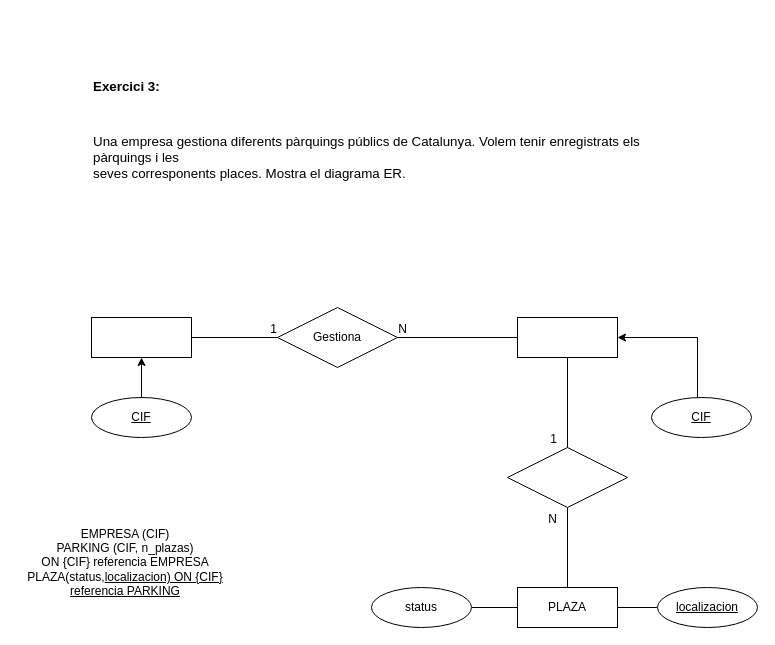
Some shapes in this 775 by 645 pixel diagram are drawn without their labels. Each missing label, with the centre of its shape:
Contiene: point 567,477
EMPRESA: point 141,337
PARKING: point 567,337
